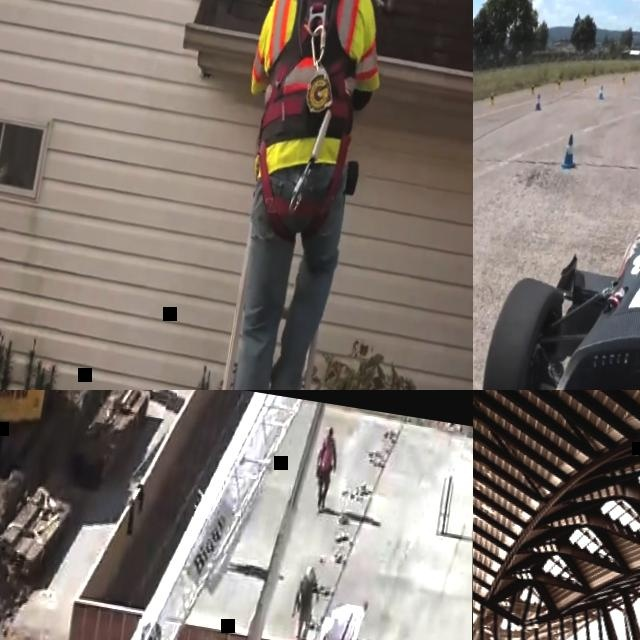Hardhat: (305, 565, 316, 582)
NO-Safety Vest: (299, 582, 316, 608)
Person: (197, 0, 408, 390), (308, 425, 343, 515), (287, 562, 323, 640)
Safety Cone: (560, 135, 582, 174), (534, 91, 545, 113), (487, 93, 497, 111), (597, 85, 606, 103), (529, 82, 538, 97), (555, 77, 563, 92), (581, 73, 588, 87), (621, 73, 627, 87)
Safety Vest: (241, 0, 392, 160), (319, 444, 335, 471)
machinery: (0, 390, 429, 640), (0, 390, 59, 482)
vehicle: (473, 167, 640, 390)
